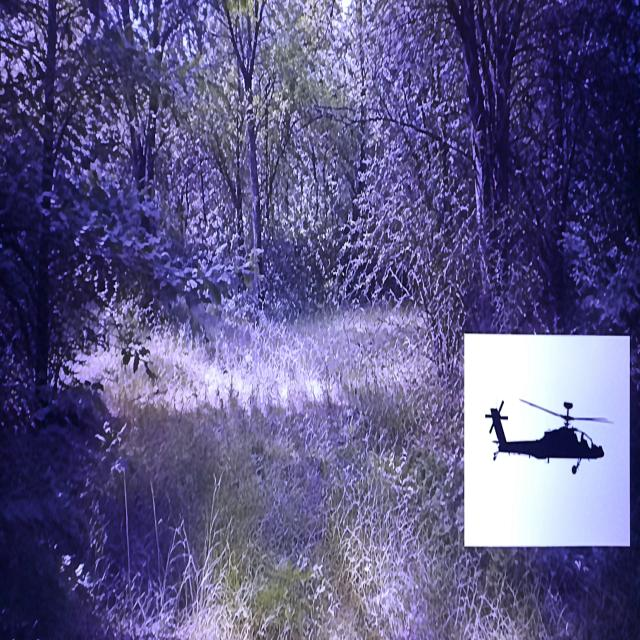Apache friendly: (486, 400, 610, 474)
